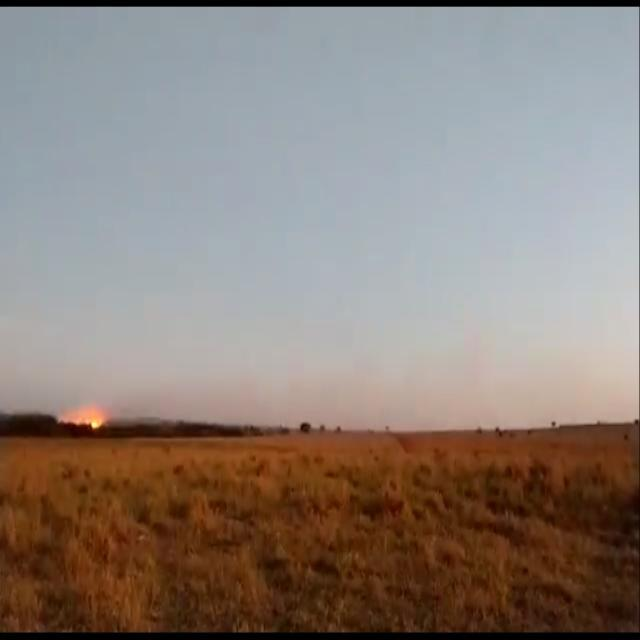Fire: (59, 412, 103, 429)
Smoke: (54, 364, 258, 424)
